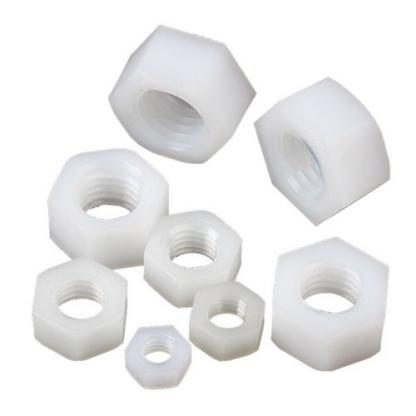FOD: (106, 23, 254, 168), (253, 76, 396, 226), (264, 235, 397, 374), (44, 148, 172, 264), (26, 257, 130, 364), (145, 207, 244, 305), (185, 280, 267, 361), (118, 322, 197, 390)
